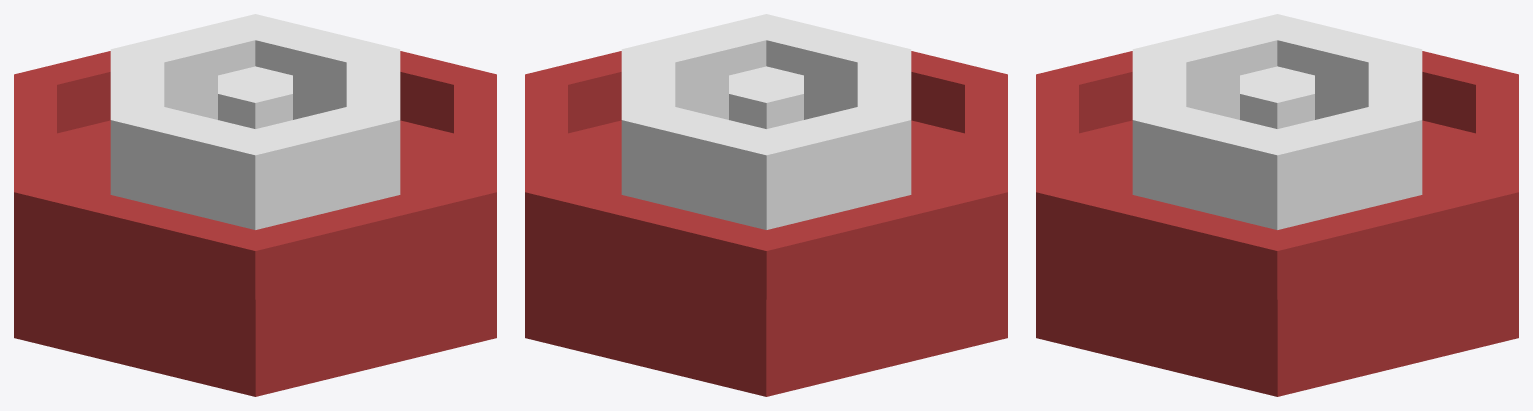
Rendered from r2c_red_canon.fbx.
3 renders of one model, left to right at view 1: azimuth 30°, elevation 25°; view 2: azimuth 150°, elevation 25°; view 3: azimuth 270°, elevation 25°, orthographic.
Parts seen in each view (by area): view 1: 개체_3, 개체_1, 개체_4; view 2: 개체_3, 개체_1, 개체_4; view 3: 개체_3, 개체_1, 개체_4.
Boxes of the visible parts, x1,y1,x2,y2 form: 개체_3: [14, 51, 496, 396]; 개체_1: [110, 14, 400, 229]; 개체_4: [218, 66, 292, 128]; 개체_3: [525, 51, 1007, 396]; 개체_1: [621, 14, 911, 229]; 개체_4: [729, 66, 803, 128]; 개체_3: [1036, 51, 1518, 396]; 개체_1: [1132, 14, 1422, 229]; 개체_4: [1240, 66, 1314, 128].
Bounding box in the file's own units: 5.2 × 2 × 4.5.
